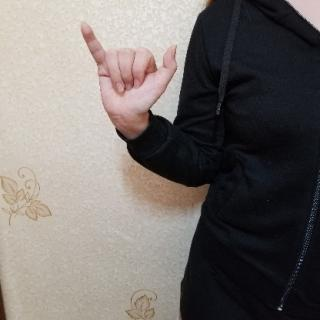YA: (76, 17, 182, 124)
